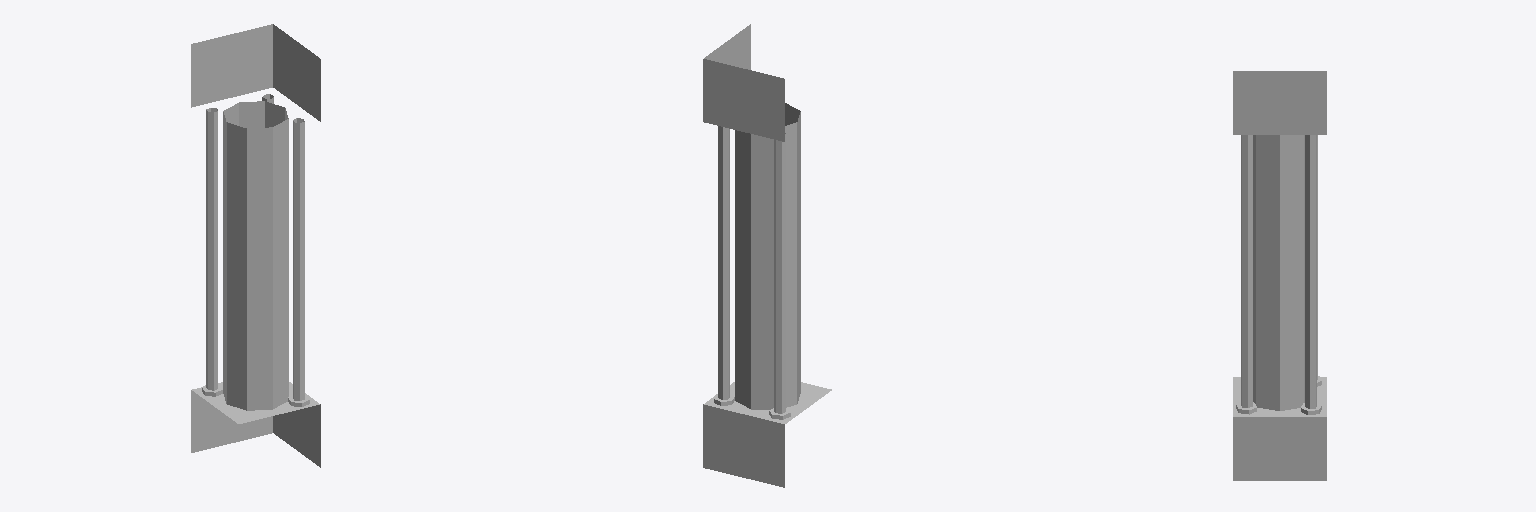
File: JC_ModPanels_Column.obj
3 renders of one model, left to right at view 1: azimuth 30°, elevation 25°; view 2: azimuth 150°, elevation 25°; view 3: azimuth 270°, elevation 25°, orthographic.
Parts seen in each view (by area): view 1: polySurface173; view 2: polySurface173; view 3: polySurface173.
Boxes of the visible parts, <box> form: polySurface173: <box>191,24,320,467</box>; polySurface173: <box>703,24,831,487</box>; polySurface173: <box>1233,71,1326,480</box>.
Bounding box in the file's own units: 100 × 477 × 100.